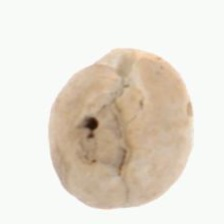L3: (73, 96, 130, 175)
L4: (49, 49, 194, 209)
